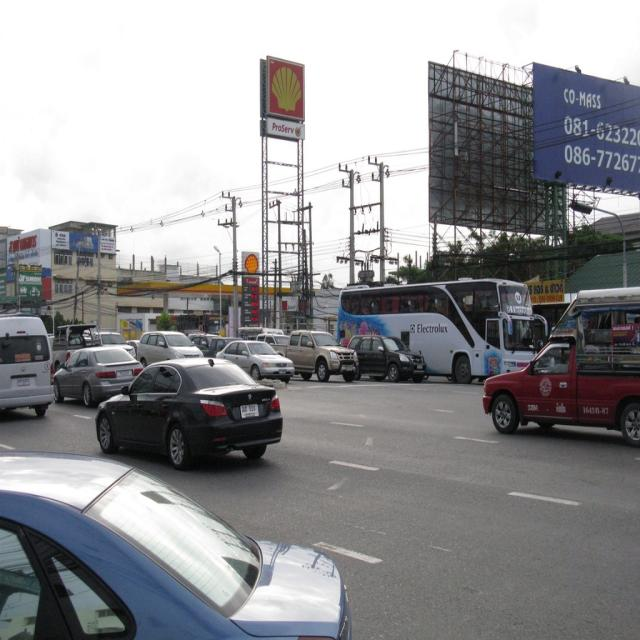car: (87, 351, 286, 474)
